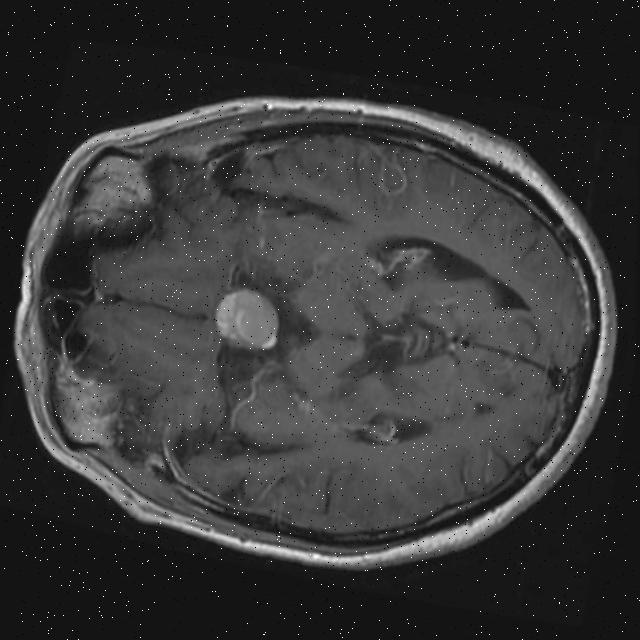Pituitary: (210, 283, 286, 355)
